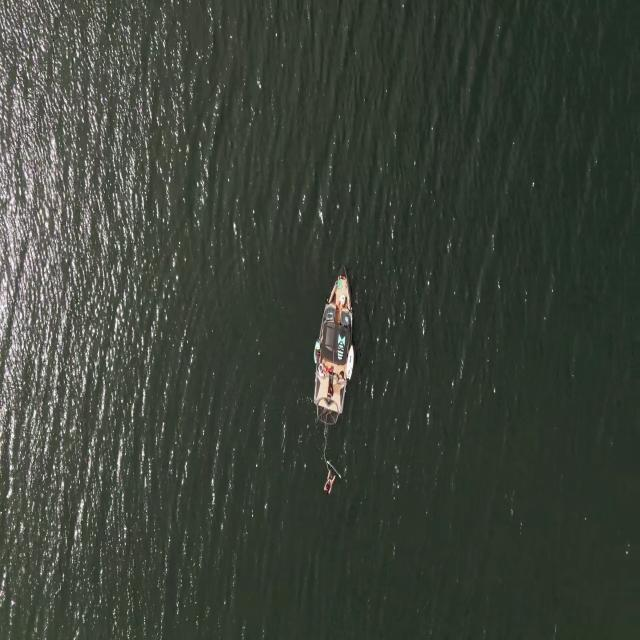ship: (312, 266, 346, 422), (345, 336, 354, 384)
